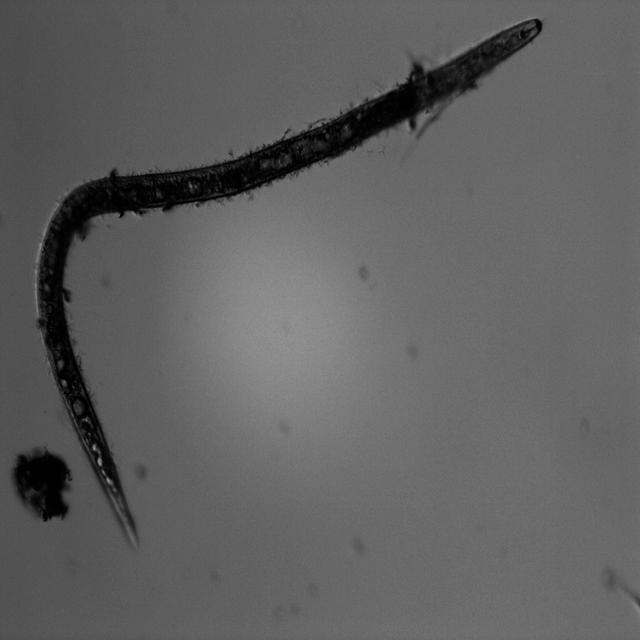Radopholus: (34, 15, 552, 559)
